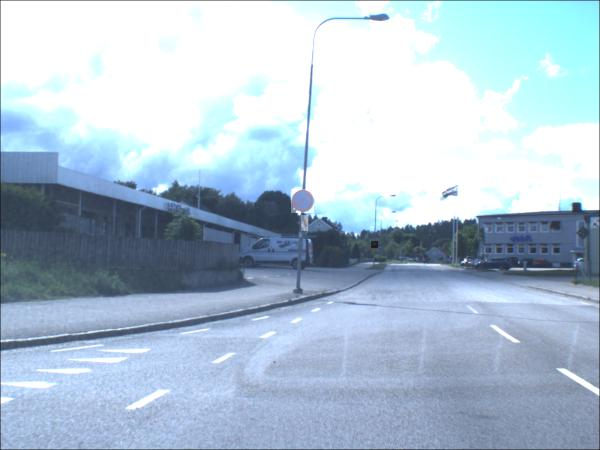NO_PARKING: (291, 190, 315, 215)
PRIORITY_ROAD: (301, 216, 309, 233)
WARNING: (371, 243, 379, 251)
